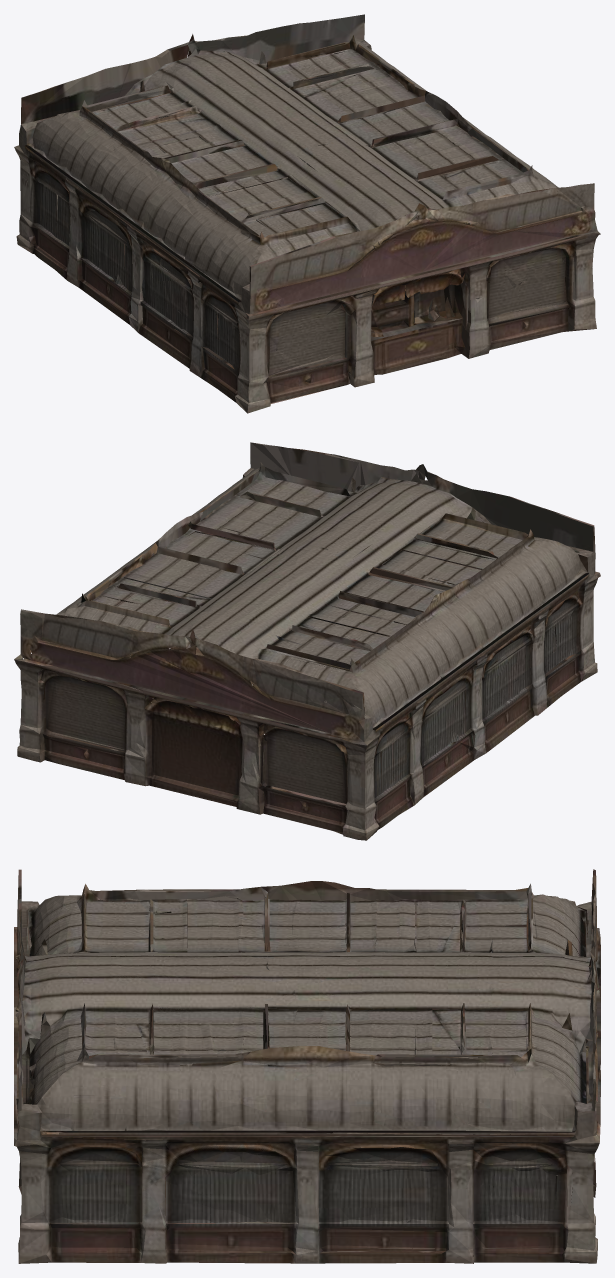
The model's file is park_arcade_hall_1117.glb.
The picture shows the model from 3 angles, top to bottom: view 1: azimuth 30°, elevation 25°; view 2: azimuth 150°, elevation 25°; view 3: azimuth 270°, elevation 25°; orthographic projection. The views are drawn at different scales.
Parts seen in each view (by area): view 1: world; view 2: world; view 3: world.
Part boxes in pixels (x1,y1,x2,y2): world: (14,14,600,413); world: (14,442,600,840); world: (14,869,600,1263).
Size of the model in its own units: 2.18 by 1 by 2.51.
Materials: 1 (1 with a texture image).
